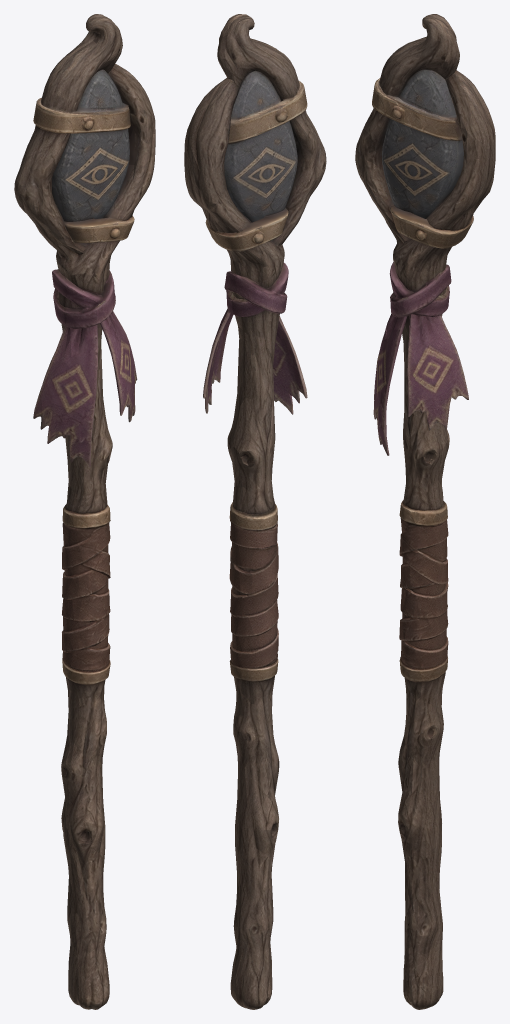
File: staff-original.glb
3 views of the same model, side by side, from view 1: azimuth 30°, elevation 25°; view 2: azimuth 210°, elevation 25°; view 3: azimuth 330°, elevation 25° (orthographic).
Visible parts, largest first — view 1: output_unwrapped; view 2: output_unwrapped; view 3: output_unwrapped.
Boxes of the visible parts, <box> form: output_unwrapped: <box>14,14,155,1009</box>; output_unwrapped: <box>184,14,326,1009</box>; output_unwrapped: <box>355,14,495,1009</box>.
Bounding box in the file's own units: 0.2715 × 1.9 × 0.154.
Materials: 1 (1 with a texture image).
